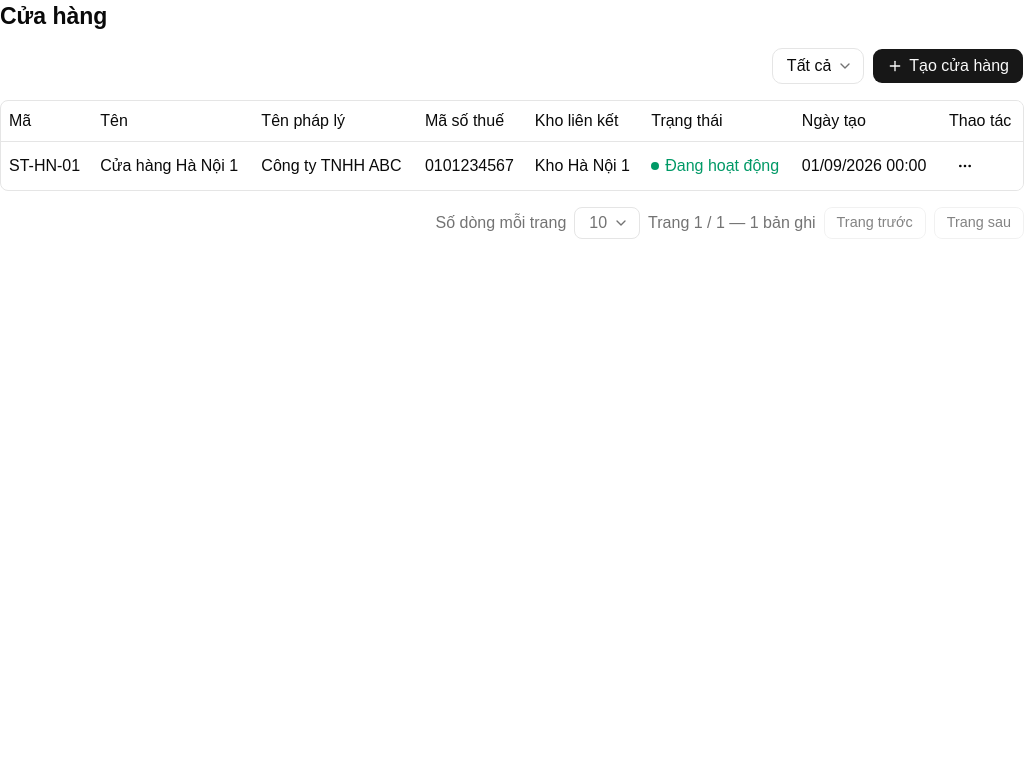
Test case: StoresPage — quyền ghi và thao tác › chọn Sửa mở sheet đã đổ sẵn dữ liệu dòng đó
Check: the link "Cửa hàng Hà Nội 1" is shown, box [100, 154, 238, 178]
Click the button named "Thao tác với Cửa hàng Hà Nội 1" at (965, 166), box [949, 150, 981, 182]
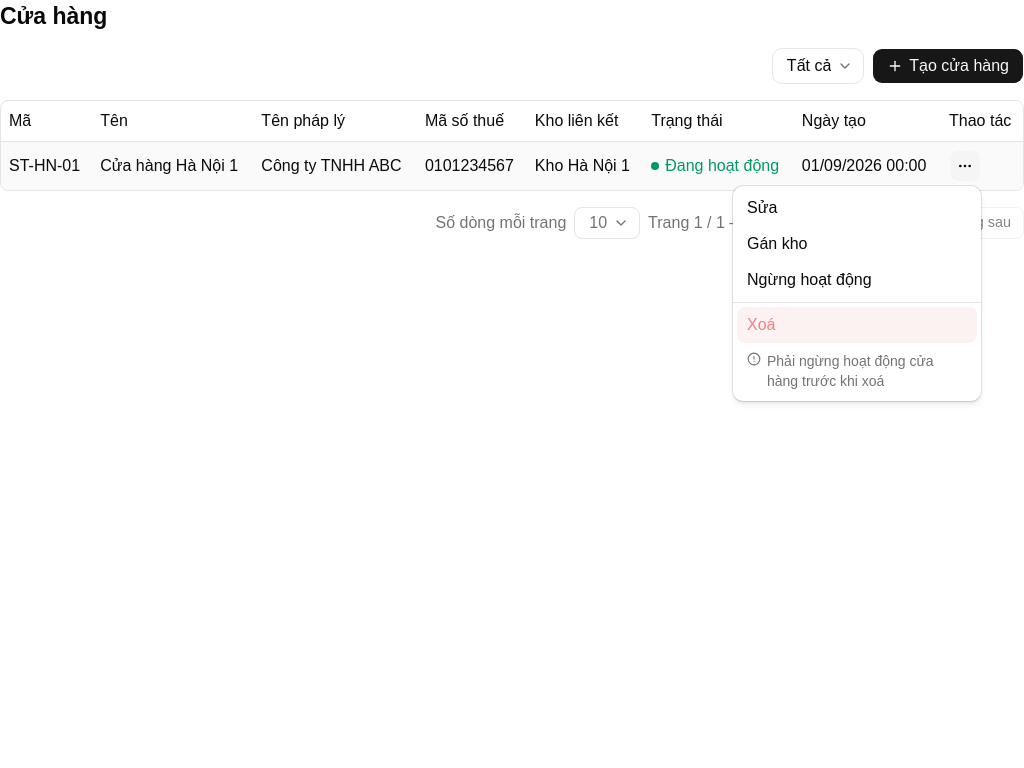
Click the menu item "Sửa" at (762, 208), box [747, 199, 777, 216]
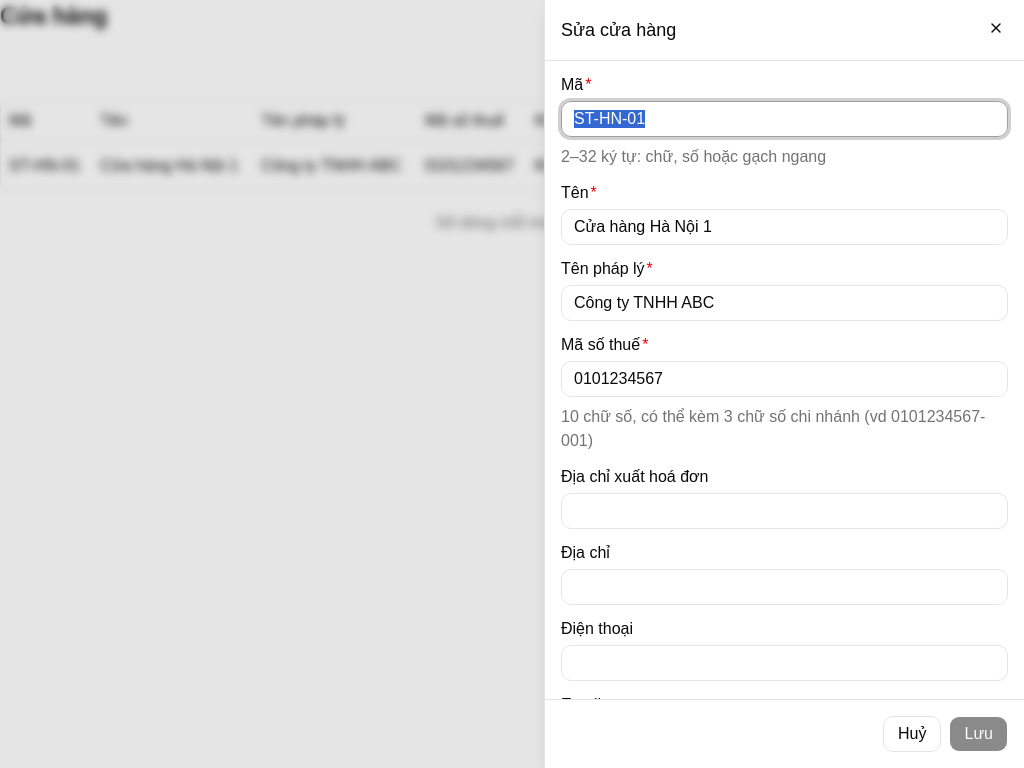
Check: the heading "Sửa cửa hàng" is shown, box [561, 20, 676, 40]
Check: the field labelled "Mã *" holds "ST-HN-01", box [561, 101, 1008, 137]
